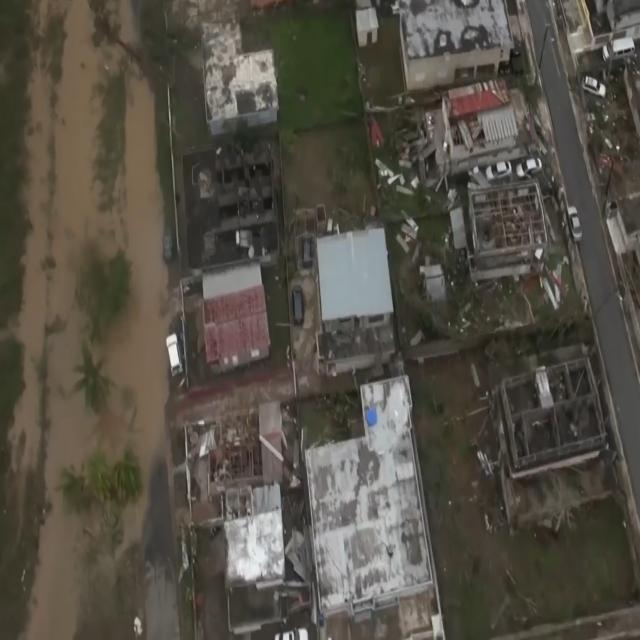flood: (12, 0, 167, 640)
house: (301, 370, 443, 640), (188, 402, 286, 614), (312, 219, 402, 383), (463, 156, 552, 286), (191, 254, 274, 374), (407, 0, 512, 87), (448, 81, 518, 166), (219, 49, 281, 128)
